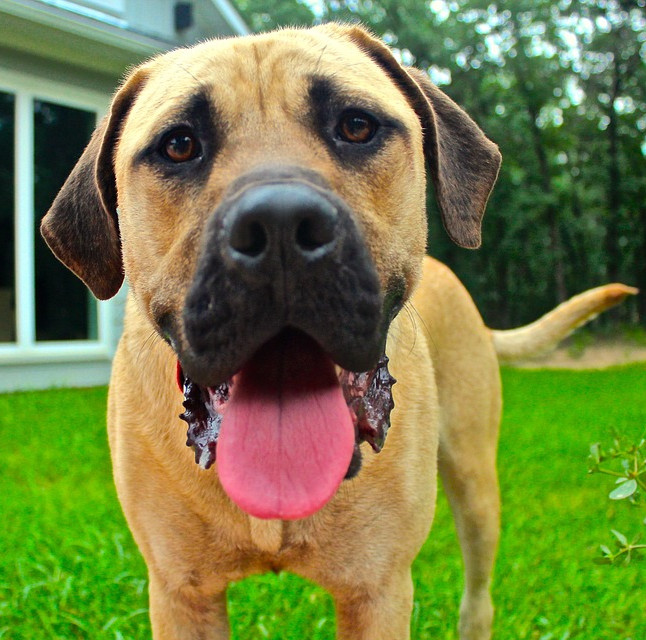dog: (0, 0, 646, 640)
